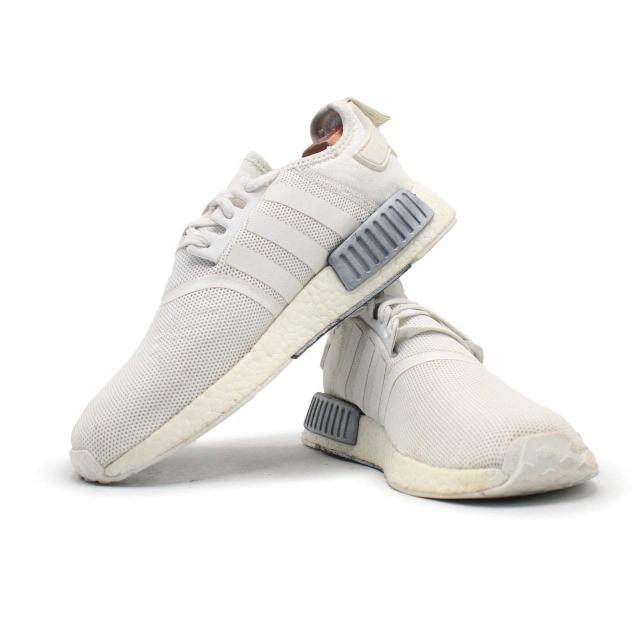heel: (330, 99, 408, 210)
midsole: (69, 177, 457, 483), (300, 391, 597, 498)
uppersole: (73, 144, 370, 462), (327, 283, 573, 465)
